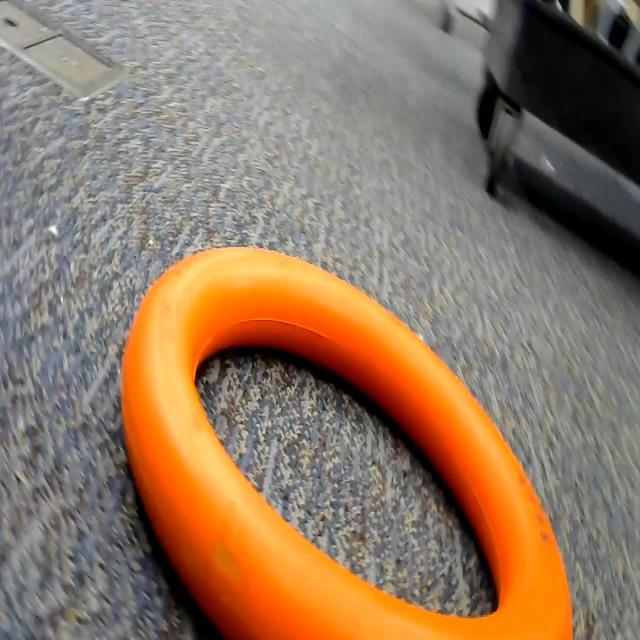note: (118, 241, 578, 640)
